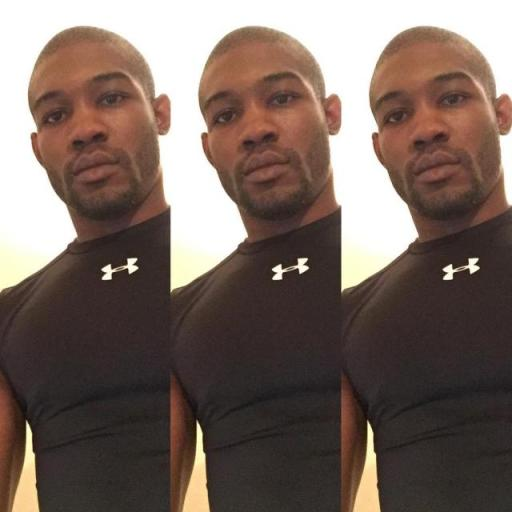Under Armour: (438, 253, 484, 281), (100, 255, 140, 283), (270, 256, 312, 282)
